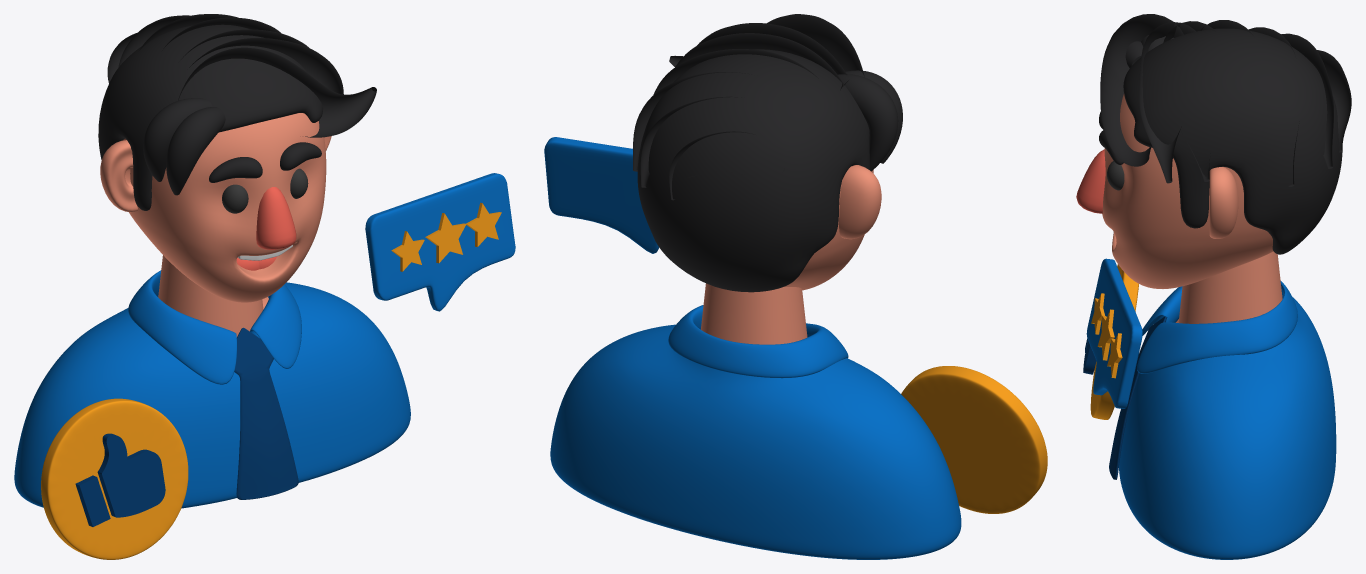
File: customer-satisfaction-3d-animated-icon-1304075280315.glb
The picture shows the model from 3 angles, left to right: view 1: azimuth 30°, elevation 25°; view 2: azimuth 150°, elevation 25°; view 3: azimuth 270°, elevation 25°; orthographic projection. The views are drawn at different scales.
Parts seen in each view (by area): view 1: Cube.012, Cube.008, Cube, Cylinder, Cube.004, Curve.001, Cube.007, Cube.001, Cube.002, Sphere, Star.001, Star.002 (+1 smaller); view 2: Cube.012, Cube.008, Cylinder, Cube.004, Cube.007, Cube; view 3: Cube.012, Cube.008, Cube, Cube.007, Cube.004, Cube.001, Cylinder, Star.001, Star.002, Sphere, Star.
Part boxes in pixels (<box>): Cube.012: <box>14,270,410,508</box>; Cube.008: <box>98,14,376,210</box>; Cube: <box>100,113,331,302</box>; Cylinder: <box>41,398,188,559</box>; Cube.004: <box>365,173,515,311</box>; Curve.001: <box>75,433,165,526</box>; Cube.007: <box>158,255,268,337</box>; Cube.001: <box>256,187,296,249</box>; Cube.002: <box>209,142,321,182</box>; Sphere: <box>222,168,308,213</box>; Star.001: <box>425,213,466,263</box>; Star.002: <box>466,202,501,246</box>; Cube.012: <box>550,305,961,559</box>; Cube.008: <box>633,14,902,292</box>; Cylinder: <box>901,366,1047,513</box>; Cube.004: <box>544,137,658,253</box>; Cube.007: <box>701,283,807,344</box>; Cube: <box>784,165,881,290</box>; Cube.012: <box>1109,281,1336,559</box>; Cube.008: <box>1100,14,1351,254</box>; Cube: <box>1102,94,1273,288</box>; Cube.007: <box>1175,251,1282,323</box>; Cube.004: <box>1086,258,1142,408</box>; Cube.001: <box>1076,149,1105,213</box>; Cylinder: <box>1090,264,1138,419</box>; Star.001: <box>1097,309,1114,360</box>; Star.002: <box>1107,333,1122,378</box>; Sphere: <box>1107,161,1124,190</box>; Star: <box>1091,293,1104,334</box>.
Size of the model in its own units: 3.07 by 2.82 by 1.52.
